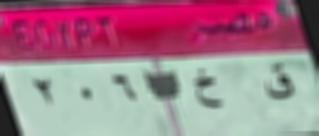0: (76, 80, 103, 109)
2: (30, 75, 60, 107)
6: (111, 71, 141, 110)
khaa: (190, 64, 225, 113)
qaaf: (261, 60, 297, 107)
